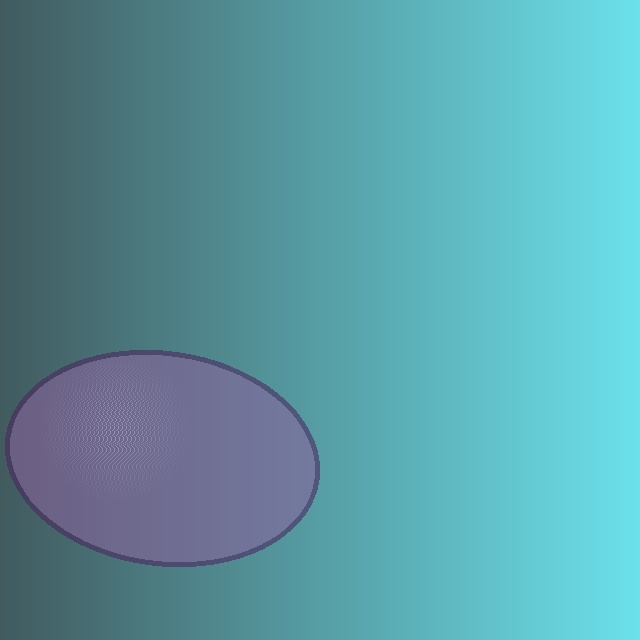lens: (8, 352, 316, 564)
